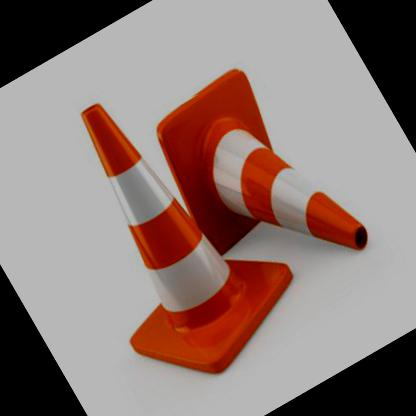cone: (17, 60, 317, 406), (134, 51, 374, 318)
